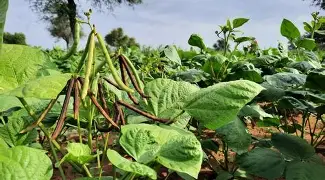crops: (0, 9, 317, 172), (0, 90, 61, 146), (179, 52, 239, 84), (280, 13, 321, 52), (138, 44, 183, 78), (214, 15, 250, 54)
